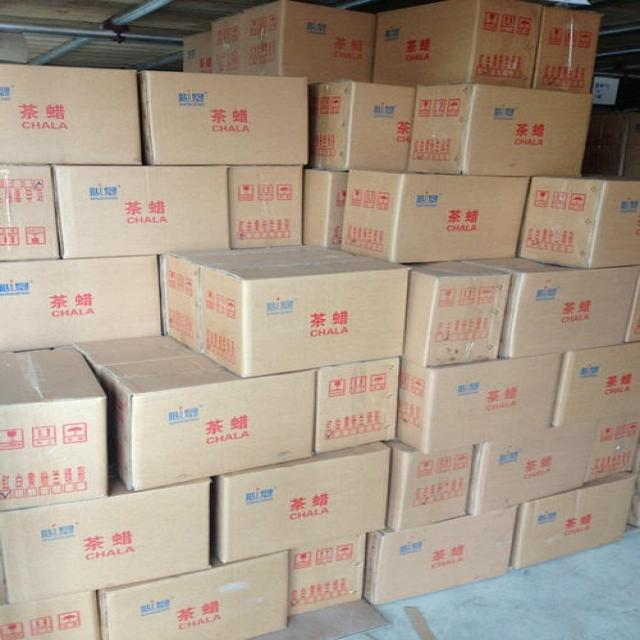box: (78, 335, 317, 491), (159, 246, 412, 379), (1, 466, 212, 606), (210, 441, 392, 563), (463, 258, 640, 359), (0, 346, 108, 511), (338, 170, 531, 262), (406, 84, 593, 177), (394, 353, 564, 455), (52, 164, 232, 259), (96, 551, 289, 639), (138, 70, 311, 166), (362, 505, 520, 606), (0, 256, 164, 352), (0, 62, 143, 164), (371, 2, 541, 87), (509, 470, 637, 573), (399, 261, 512, 368), (468, 422, 596, 516), (518, 173, 640, 267), (242, 0, 378, 84), (308, 80, 415, 170), (385, 438, 474, 533), (315, 358, 399, 455), (550, 341, 640, 428), (288, 533, 366, 617), (531, 6, 603, 94), (229, 165, 303, 250), (0, 164, 60, 260), (0, 588, 101, 639), (585, 412, 640, 485), (303, 169, 347, 250), (209, 12, 243, 75), (180, 31, 212, 74)
